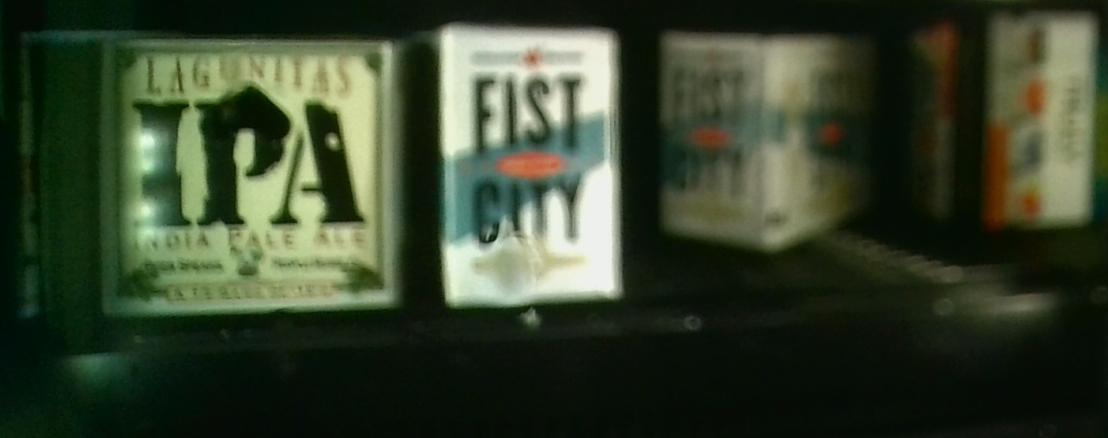bottle: (40, 33, 405, 310), (429, 24, 620, 303), (666, 28, 872, 247)
